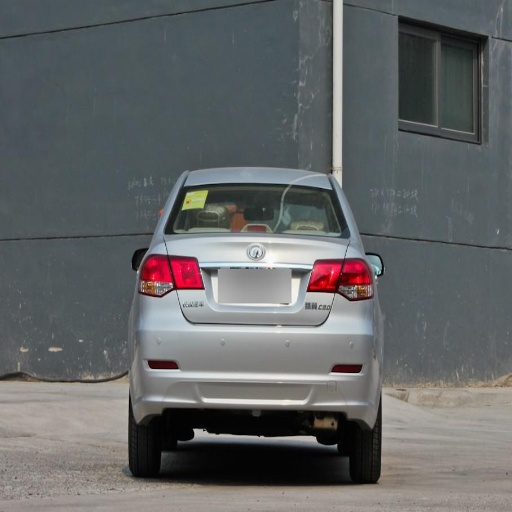back_bumper: (123, 293, 380, 425)
tailgate: (163, 236, 347, 323)
trunk: (166, 236, 247, 279)
